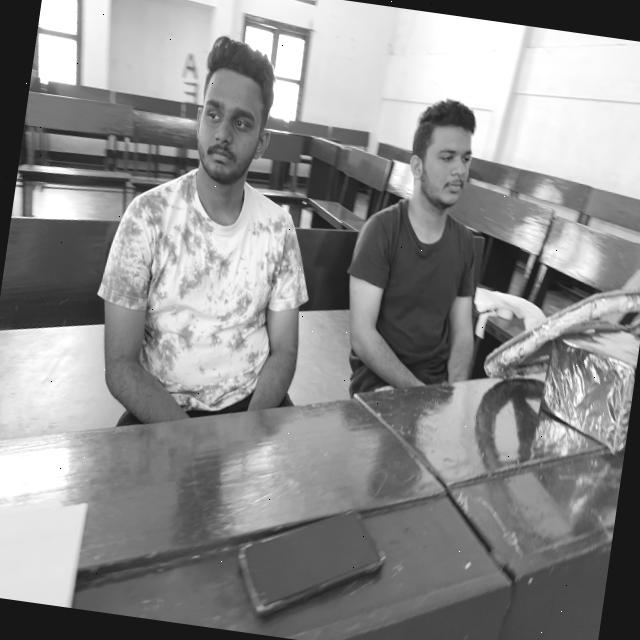Helmet: (74, 165, 326, 493), (329, 198, 490, 434)
